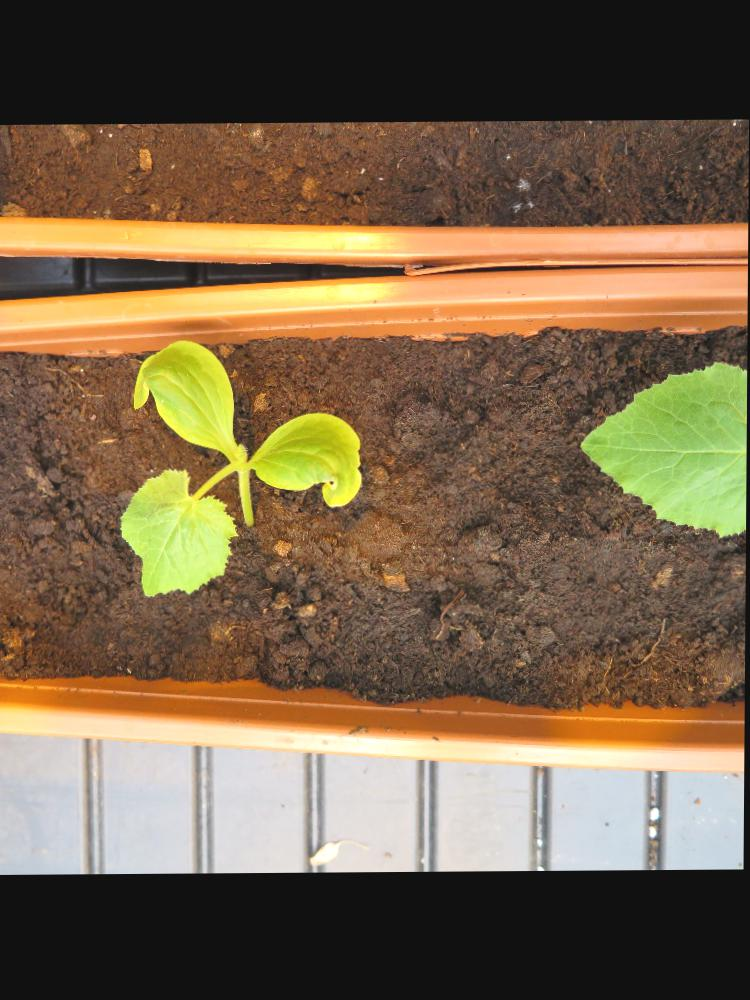crop: (120, 331, 364, 599)
